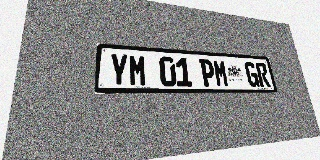0: (159, 56, 177, 87)
1: (175, 57, 192, 87)
G: (244, 62, 260, 87)
M: (129, 54, 147, 86), (213, 60, 229, 87)
P: (199, 59, 216, 87)
R: (255, 62, 271, 87)
Y: (109, 53, 128, 86)
